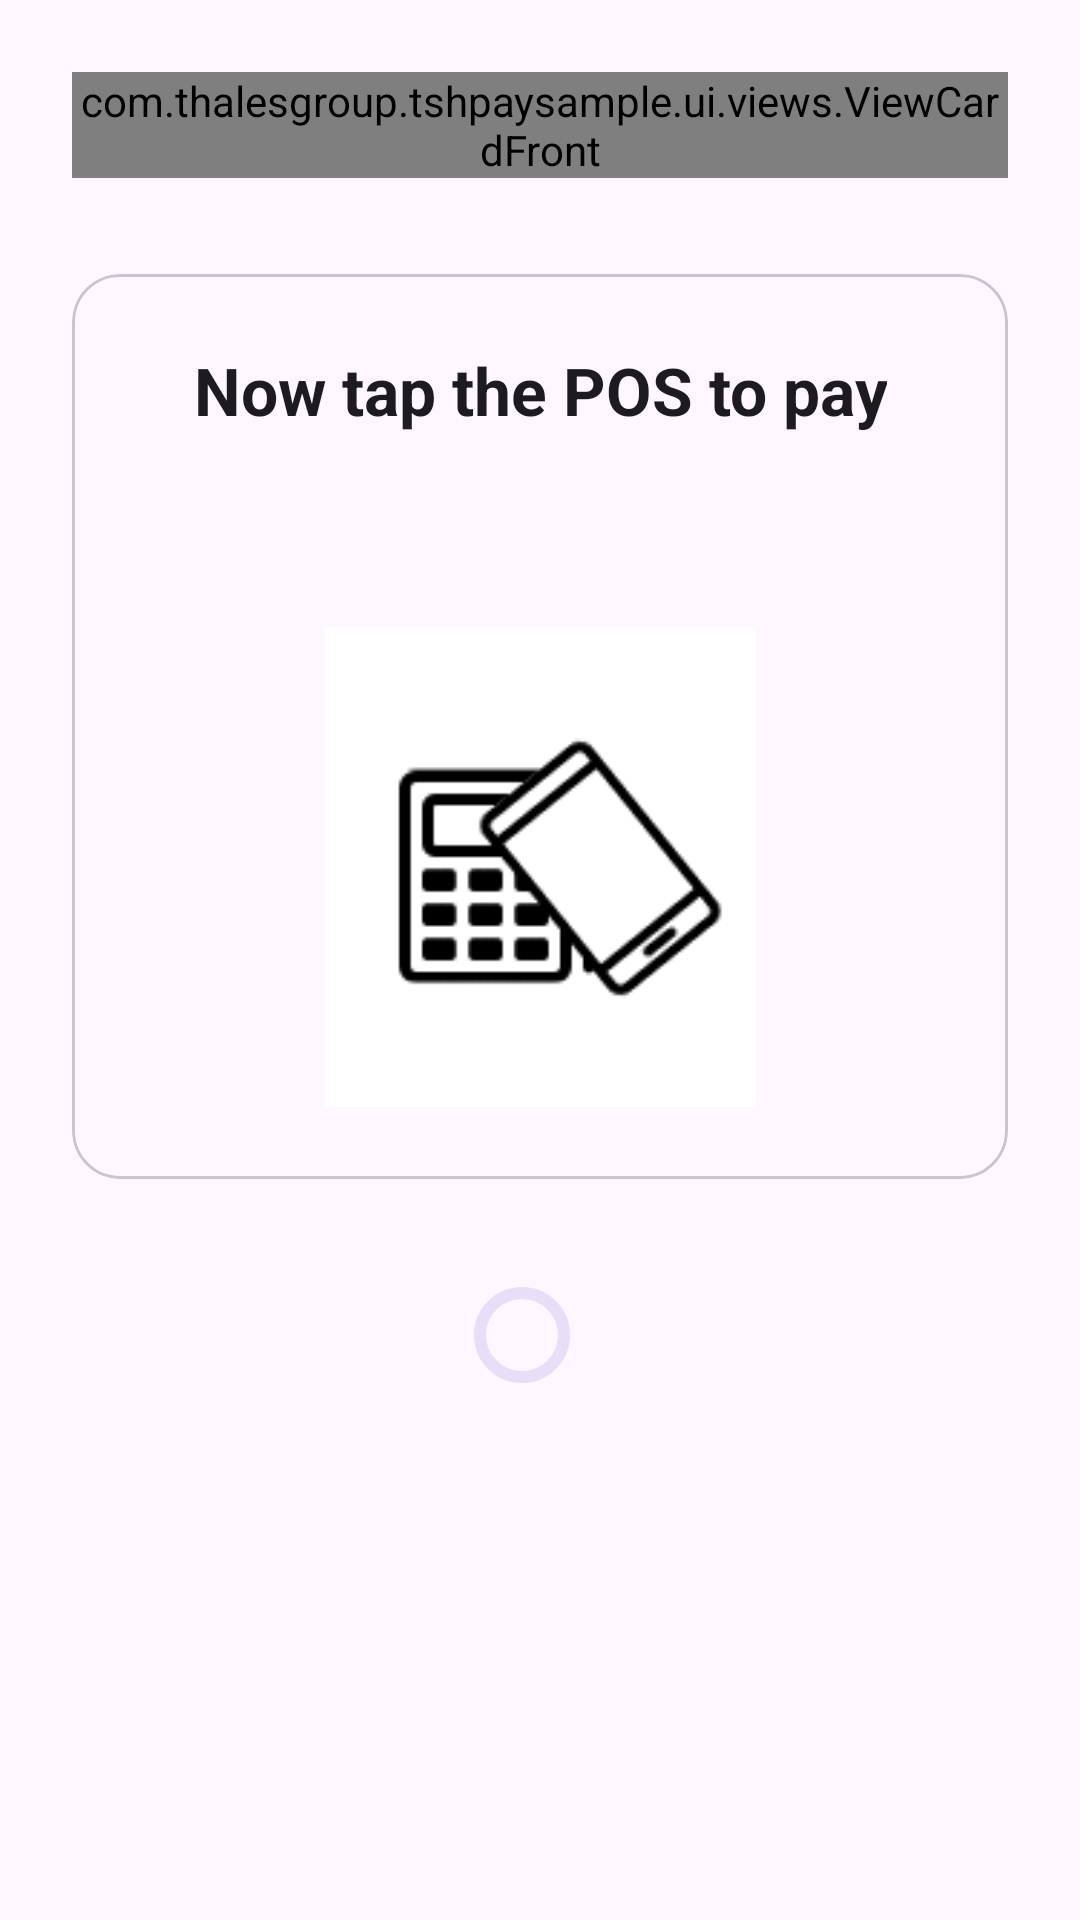

Screen size 1080 x 1920. Icon name, then its box in pixels as (x1, y1, x2, y2):
gif payment pos: (398, 740, 722, 996)
